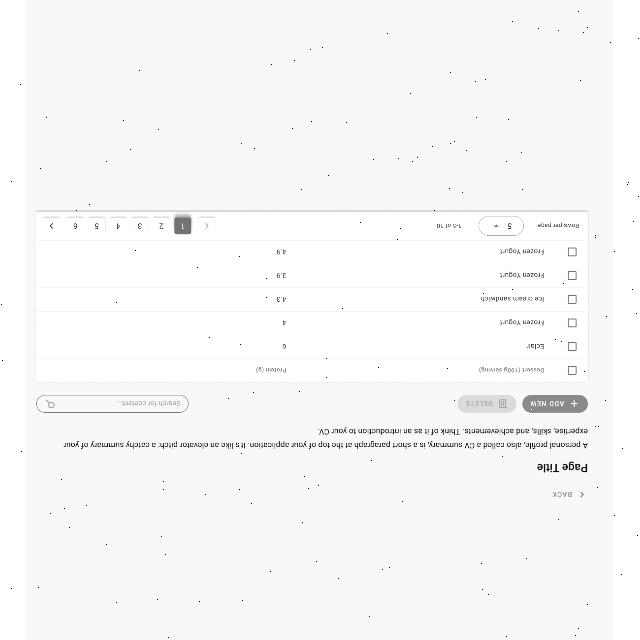QLabel: (62, 427, 590, 449), (538, 461, 590, 473), (466, 400, 494, 408), (531, 401, 565, 407), (554, 492, 574, 498)
VBtn: (523, 394, 589, 414), (458, 394, 518, 414)
VDataTable: (36, 210, 590, 384)
VIcon: (498, 399, 508, 408), (580, 490, 586, 498), (572, 399, 578, 407)
VTextField: (36, 394, 190, 414)
